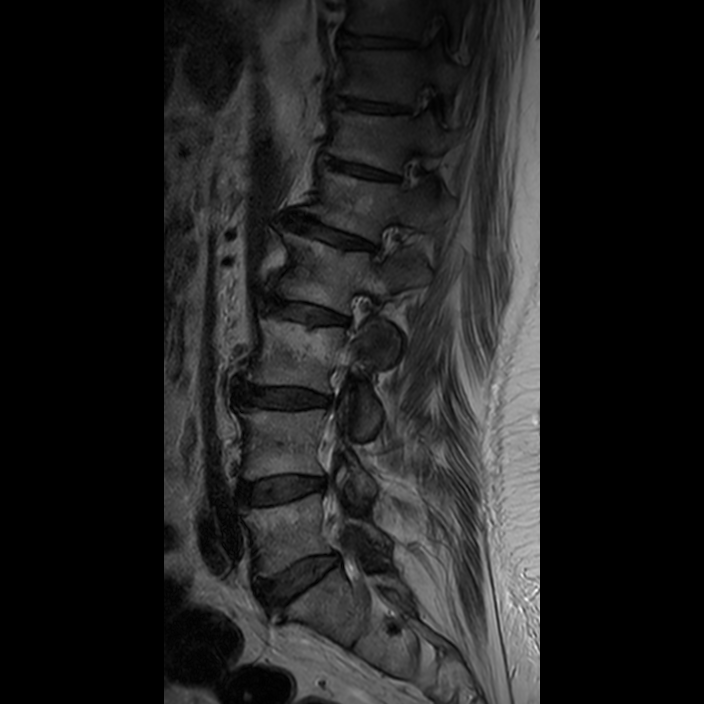RFS0: (324, 276, 379, 351)
